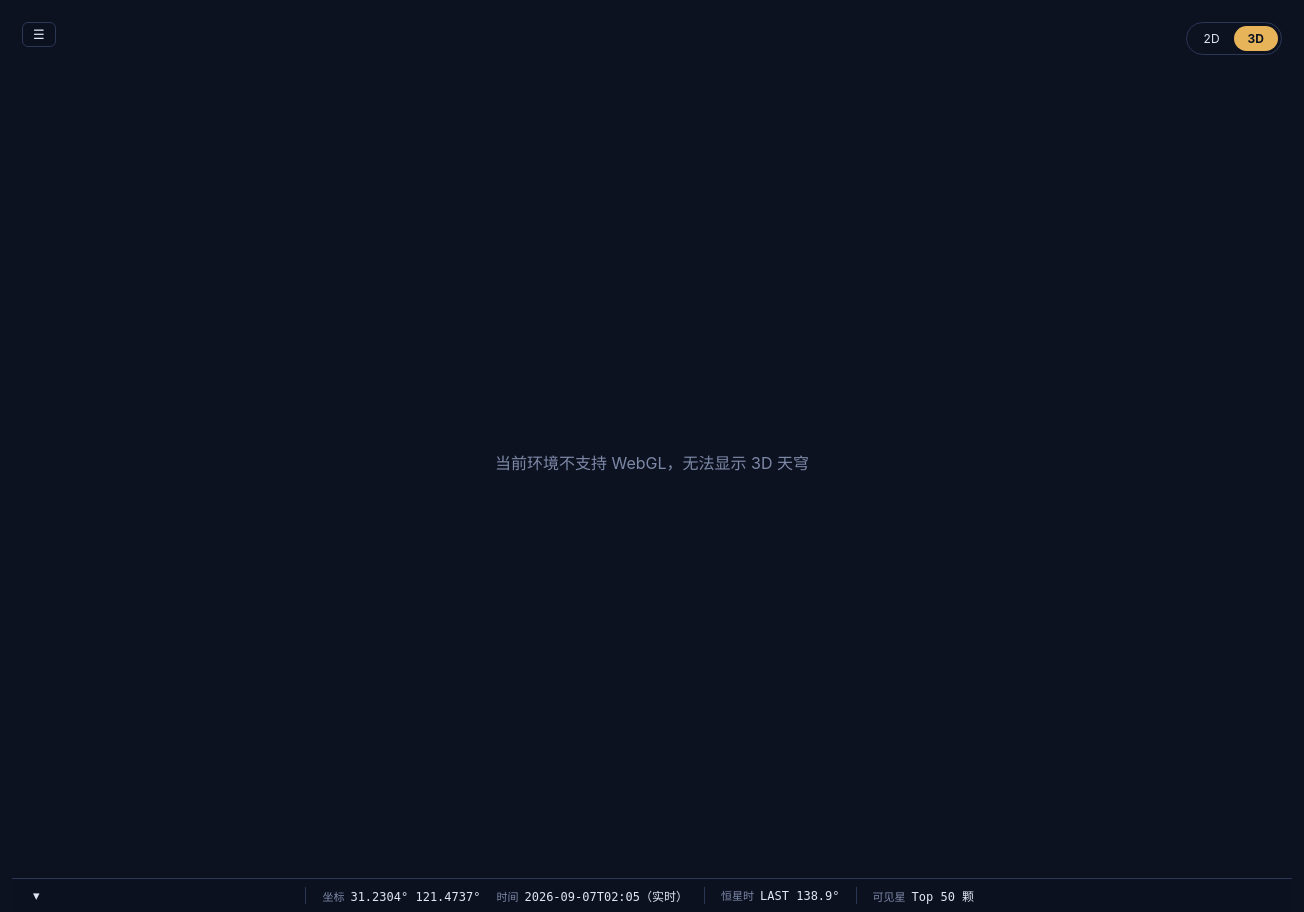
Test case: App › 右上可切换 3D 视图
The image size is (1304, 912).
Expected: the text "当前环境不支持 WebGL，无法显示 3D 天穹" is shown, [471,426,833,498]
Step 1. Click the switch named "2D 视图" → click(1212, 38), box [1190,26,1234,51]
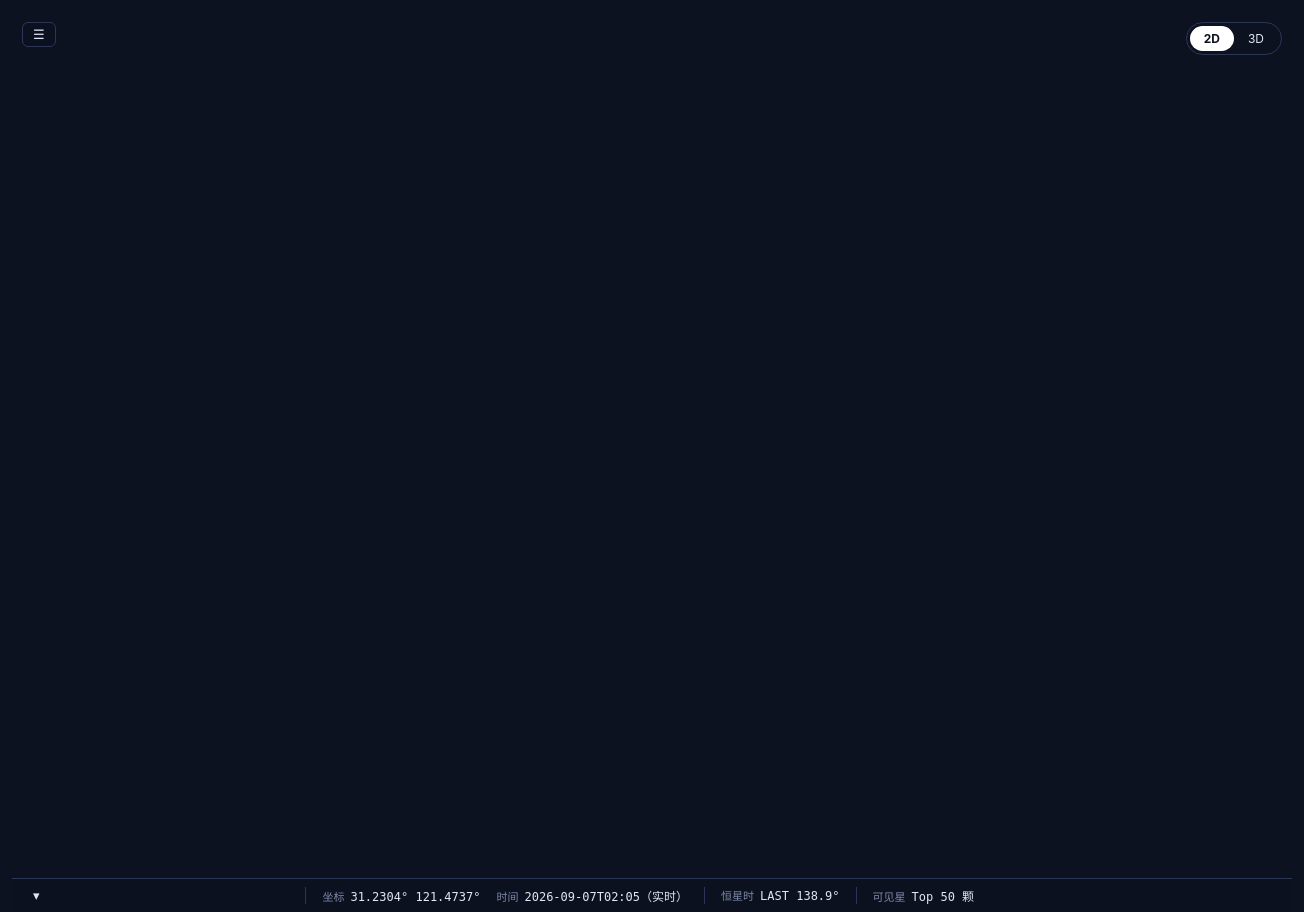
Now the drawing with test id "star-canvas" is shown
Step 2. Click the switch named "3D 视图" → click(1256, 38), box [1234,26,1278,51]
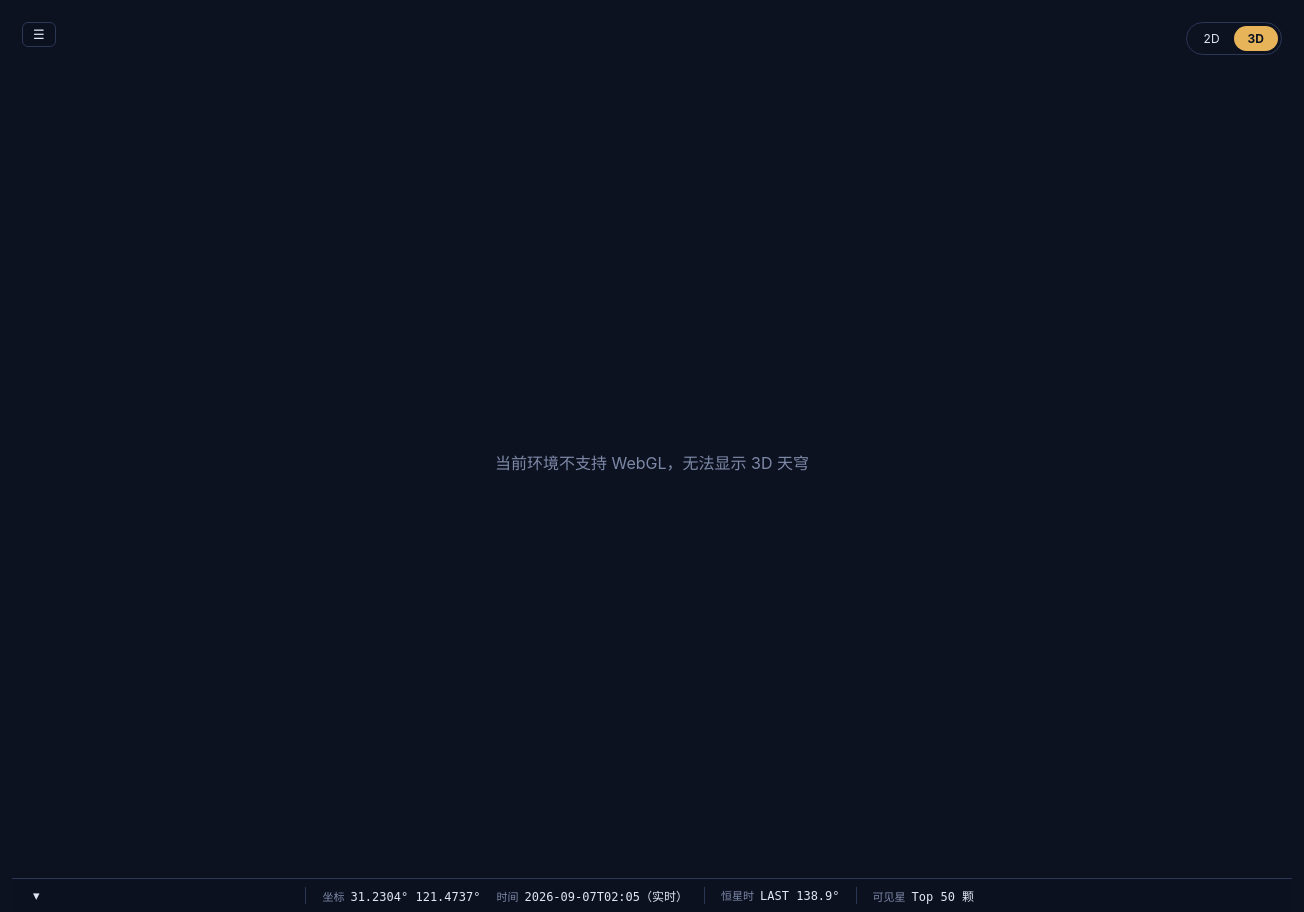
Now the text "当前环境不支持 WebGL，无法显示 3D 天穹" is shown, box [471,426,833,498]
